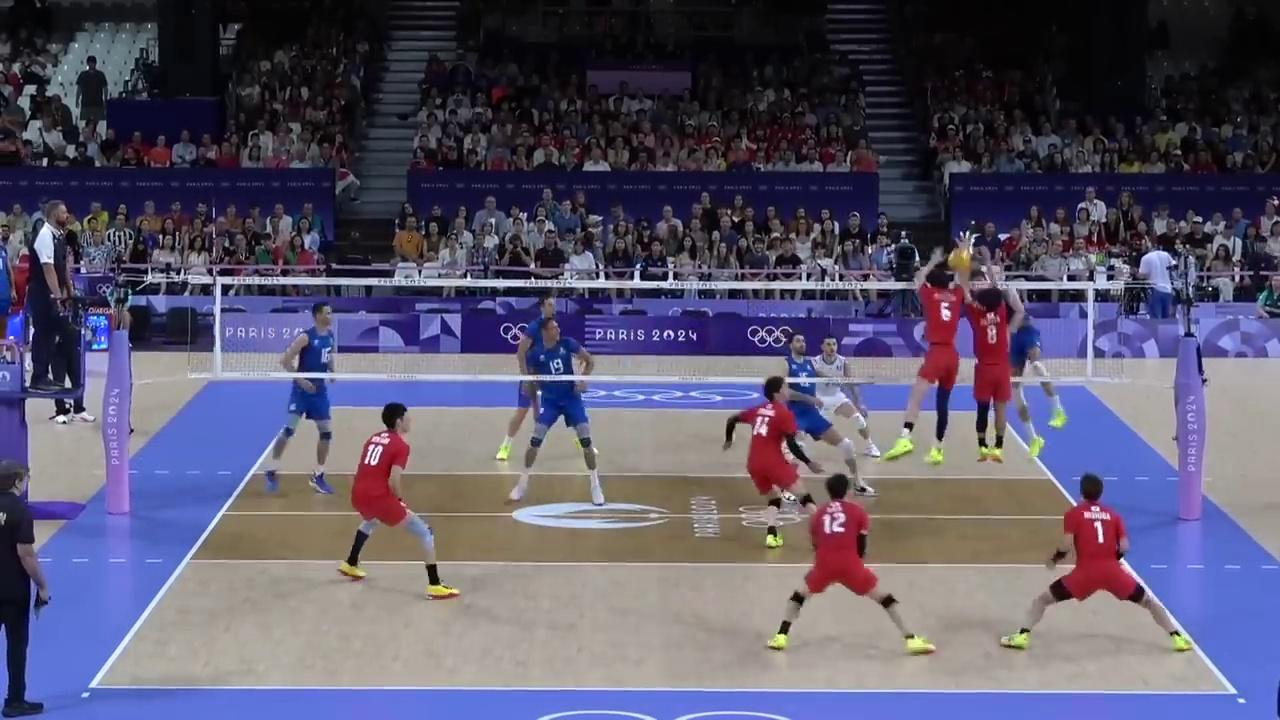ball: (950, 249, 971, 274)
